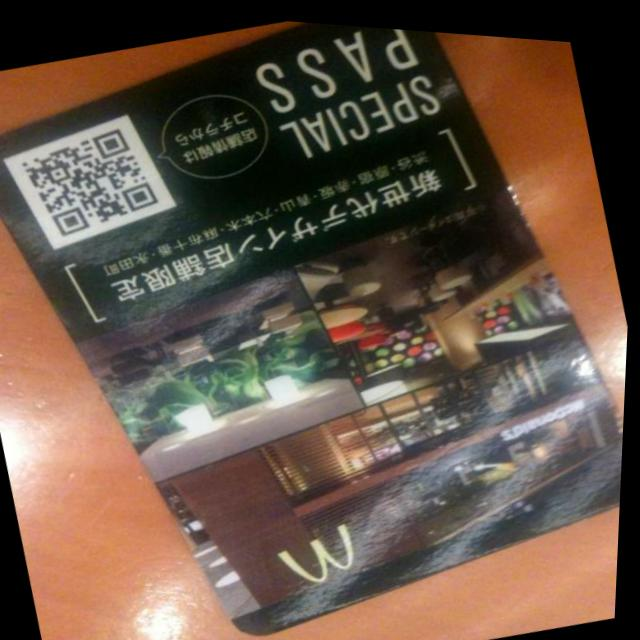qrcode: (15, 114, 168, 248)
